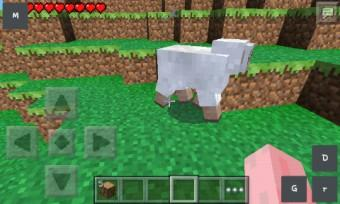sheep: (156, 39, 257, 125)
